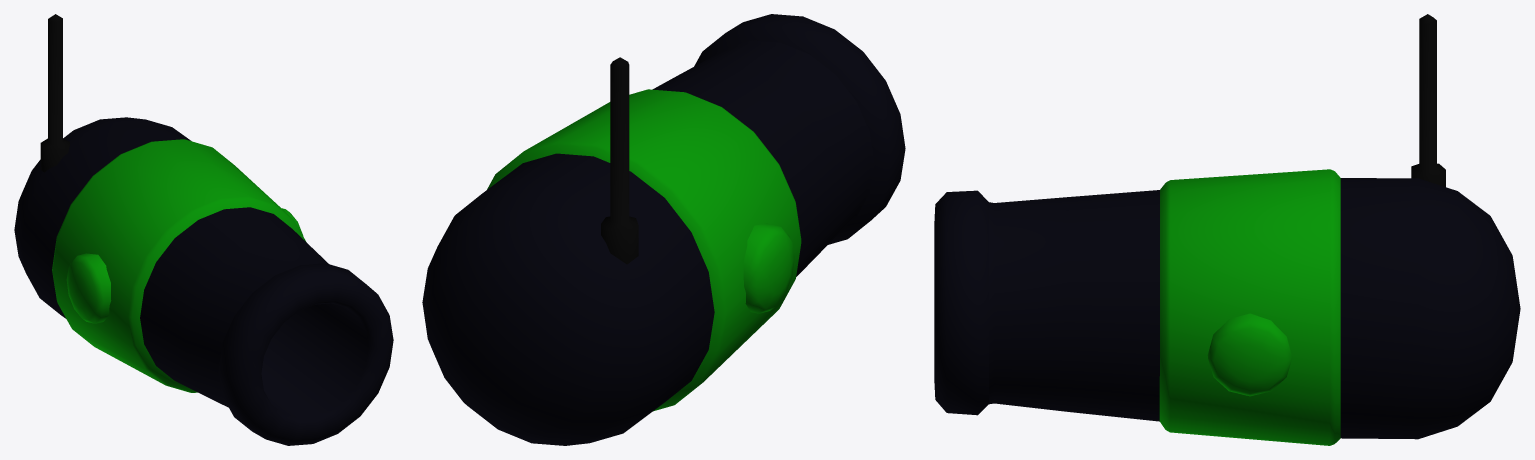
Rendered from 3D_CannonSimple_Head_MESH.fbx.
3 renders of one model, left to right at view 1: azimuth 30°, elevation 25°; view 2: azimuth 150°, elevation 25°; view 3: azimuth 270°, elevation 25°, orthographic. The views are drawn at different scales.
Parts seen in each view (by area): view 1: 3D_CannonSimple_Head_MESH; view 2: 3D_CannonSimple_Head_MESH; view 3: 3D_CannonSimple_Head_MESH.
Boxes of the visible parts, x1,y1,x2,y2 form: 3D_CannonSimple_Head_MESH: [14, 14, 393, 445]; 3D_CannonSimple_Head_MESH: [422, 14, 905, 445]; 3D_CannonSimple_Head_MESH: [934, 14, 1520, 445].
Bounding box in the file's own units: 106 × 149 × 205.
